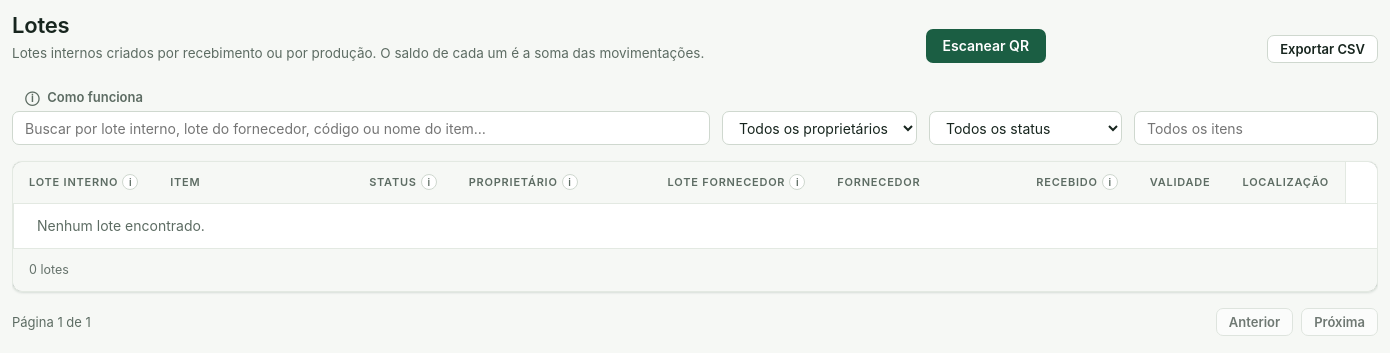
Test: Lotes › as colunas que confundem têm o seu ⓘ
Step 1. Click the button "i" next to "Lote Fornecedor" → x=797, y=182, box [789,174,805,190]
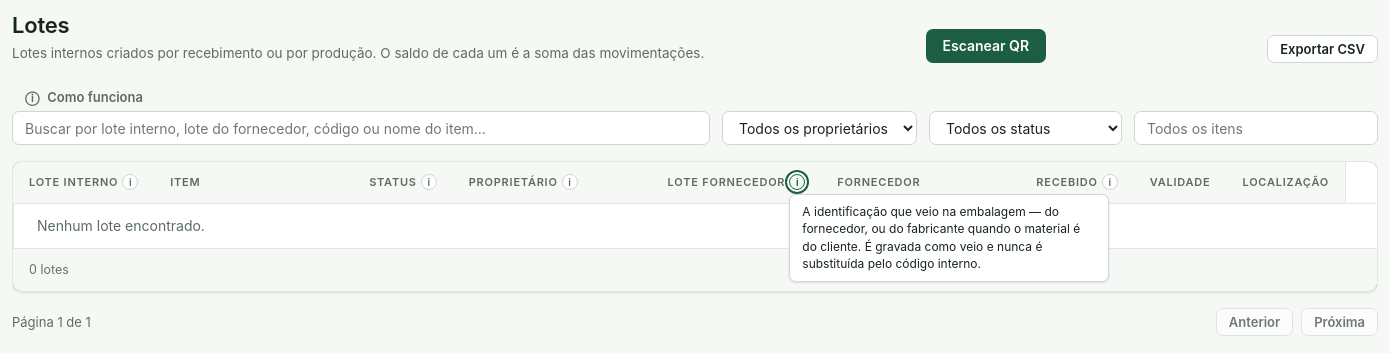
Expected: the text "A identificação que veio na embalagem — do fornecedor, ou do fabricante quando o material é do cliente. É gravada como v" is shown, [802,204,1080,271]
